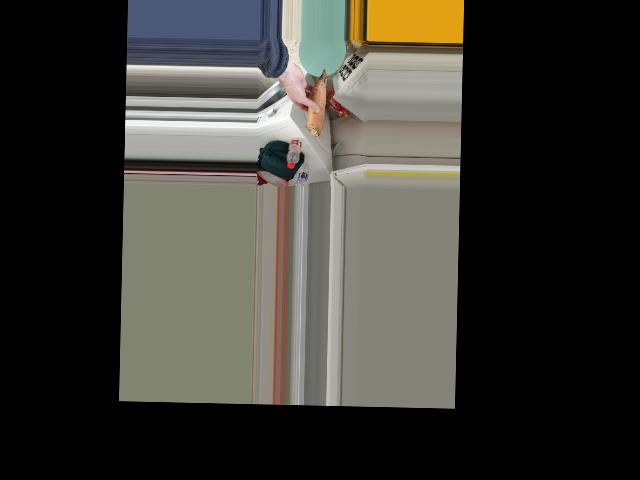sweet_potato: (307, 69, 326, 132)
